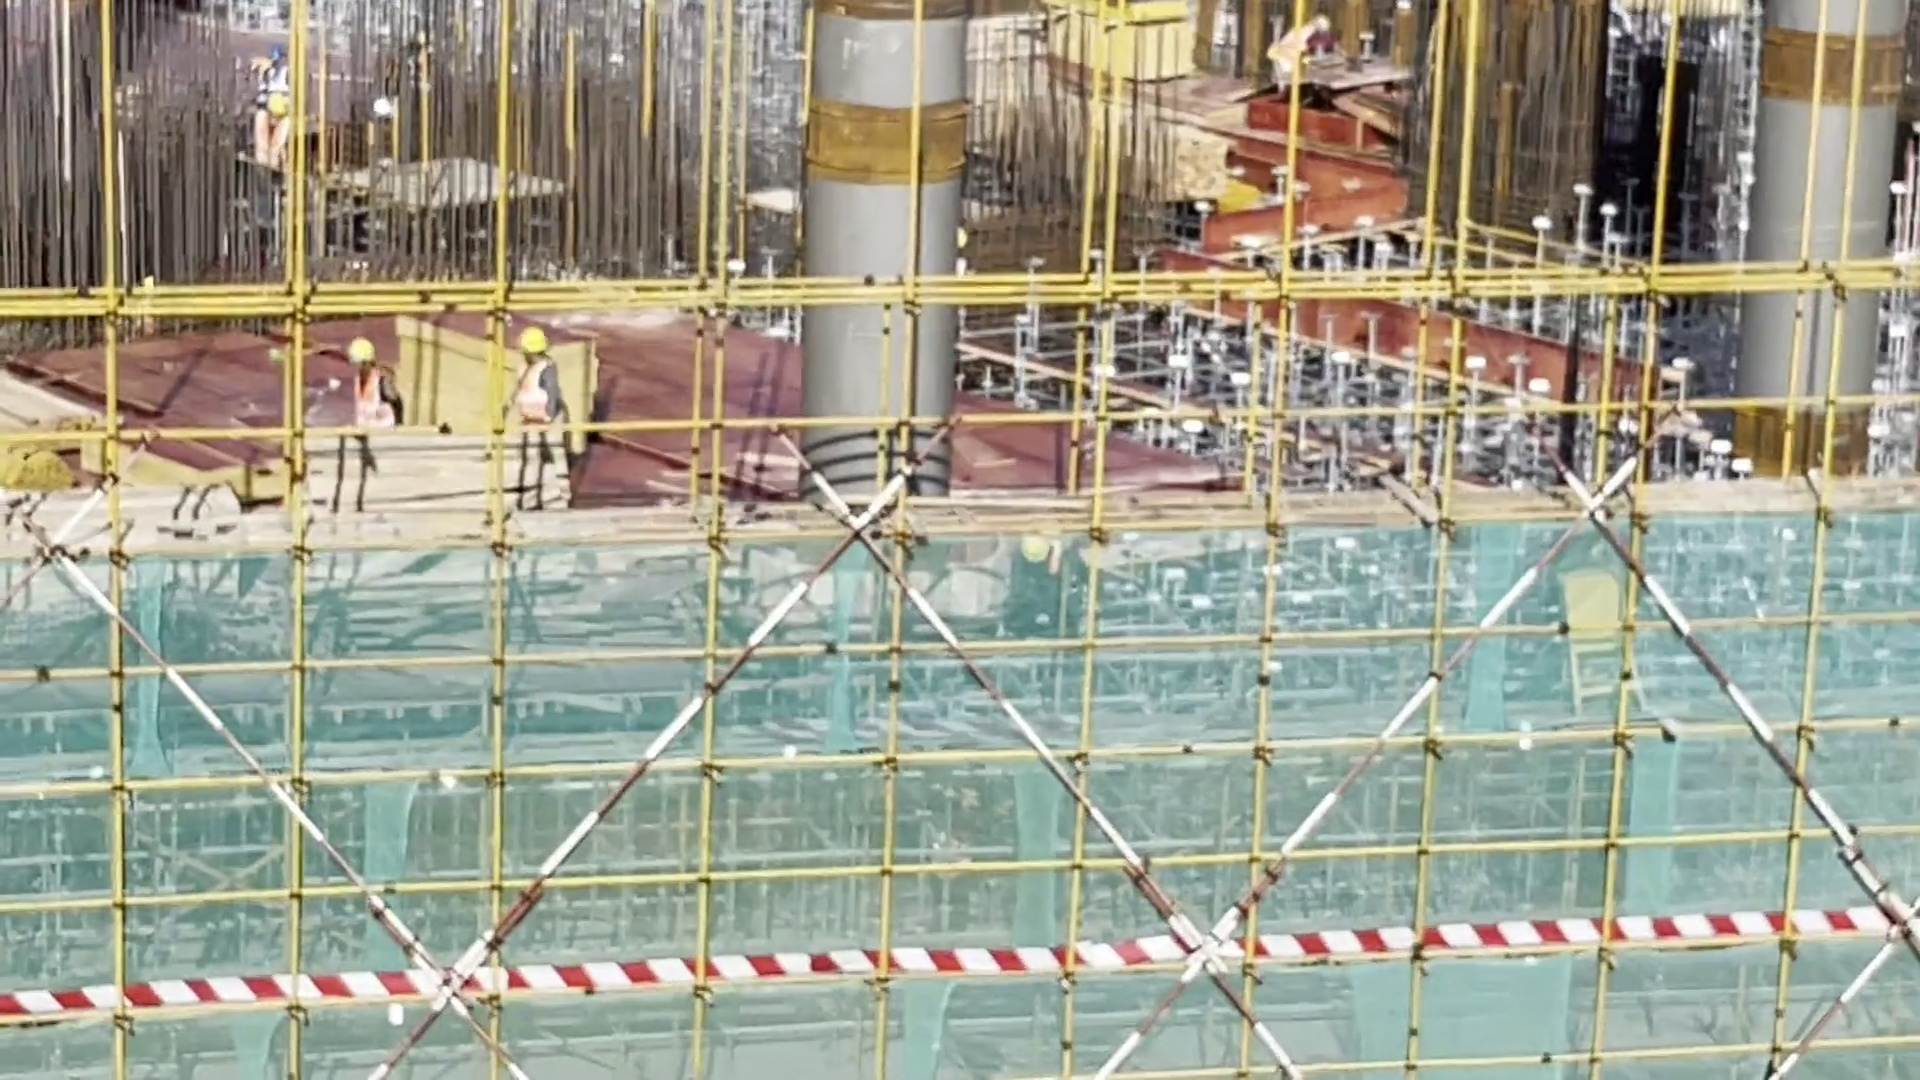helmet: (343, 323, 383, 369), (512, 325, 554, 354), (261, 90, 292, 118), (1315, 13, 1330, 31)
person: (483, 326, 577, 469), (336, 328, 415, 441), (241, 88, 301, 183), (1265, 9, 1330, 90)
vest: (511, 363, 560, 419), (353, 370, 398, 420), (250, 117, 291, 163), (1275, 27, 1314, 75)
